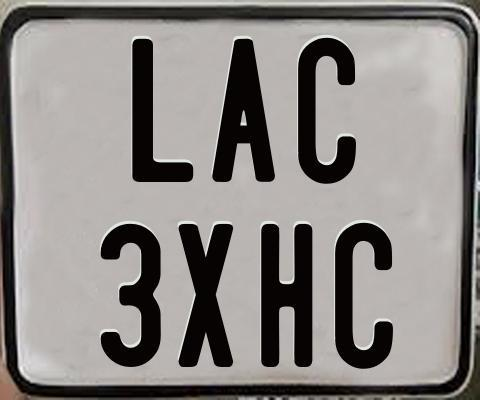3: (98, 223, 161, 370)
A: (209, 36, 274, 182)
C: (332, 223, 396, 373), (298, 38, 359, 189)
H: (261, 221, 318, 367)
L: (132, 36, 194, 181)
X: (178, 224, 233, 368)
